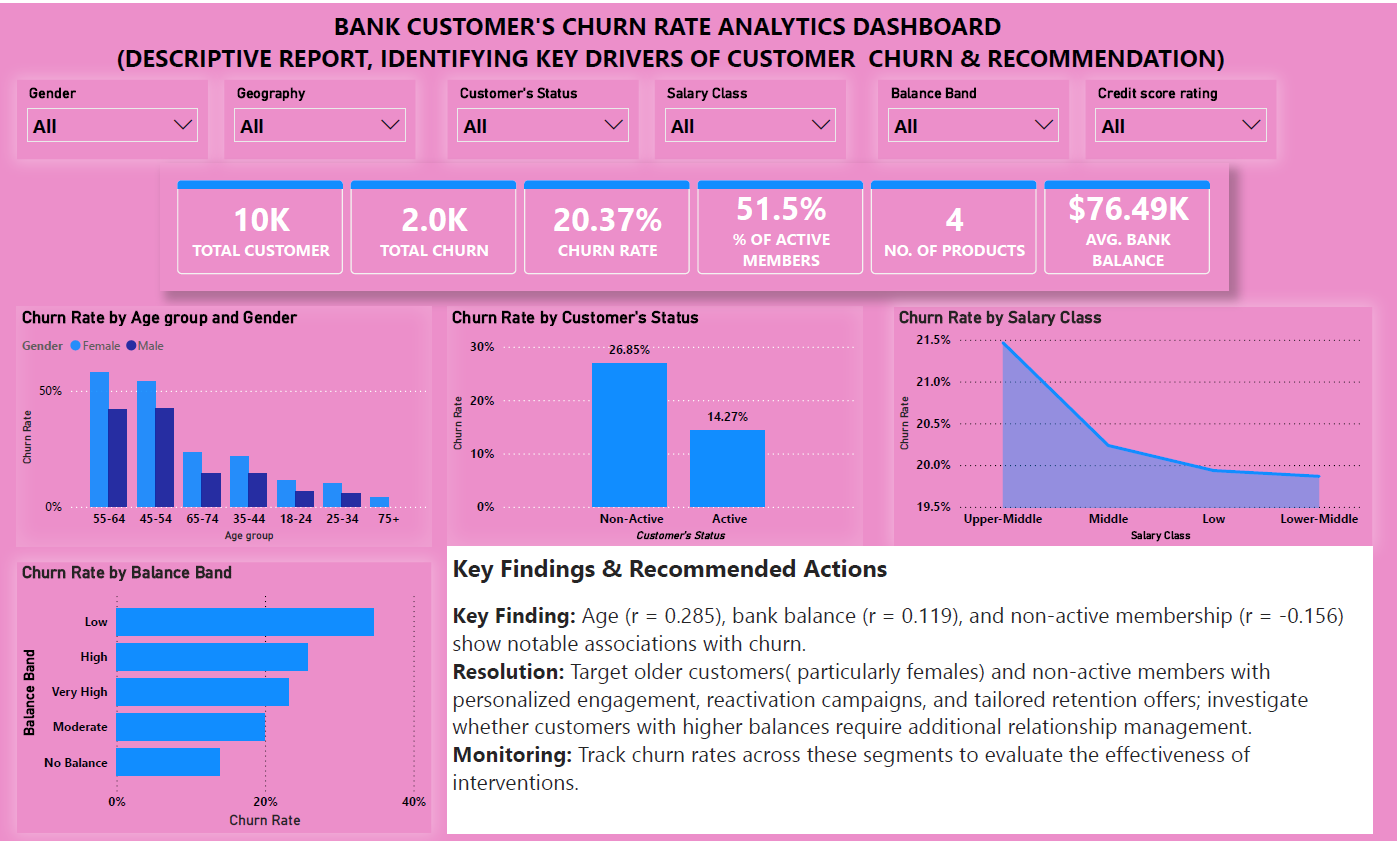

What the dashboard file says about the page in this screenshot:
{"tool":"powerbi","page":{"name":"Page 1","canvas":[1400,840],"ordinal":0},"visuals":[{"type":"cardVisual","fields":{"Data":["Age_group_Dim.total customer","Age_group_Dim.Total Churn","Age_group_Dim.Churn Rate","Age_group_Dim.%_of_Active_Members","Count(Fact_Table_Churn.Num_Of_Products)","Age_group_Dim.AVG. BANK BALANCE"]},"box":[160,160,1072,128],"z":0},{"type":"textbox","box":[32,0,1280,80],"z":1000},{"type":"slicer","fields":{"Values":["Gender_dim.Gender"]},"box":[16,75.6,192,80],"z":2000},{"type":"slicer","fields":{"Values":["Geo_dimension.Geography"]},"box":[224,75.6,192,80],"z":3000},{"type":"slicer","fields":{"Values":["Membership_status_Dim.Is_Active_Member"]},"box":[448,75.6,192,80],"z":4000},{"type":"slicer","fields":{"Values":["Salary_Class_Dim.Salary Class"]},"box":[656,75.6,192,80],"z":5000},{"type":"slicer","fields":{"Values":["Balance_Band_Dim.Balance Band"]},"box":[880,75.6,192,80],"z":6000},{"type":"slicer","fields":{"Values":["Credit_rating_DIM.Credit score rating"]},"box":[1088,75.6,192,80],"z":7000},{"type":"clusteredColumnChart","fields":{"Category":["Age_group_Dim.Age group"],"Y":["Age_group_Dim.Churn Rate"],"Series":["Gender_dim.Gender"]},"box":[16,304,416,240],"z":8000},{"type":"clusteredColumnChart","fields":{"Category":["Membership_status_Dim.Is_Active_Member"],"Y":["Age_group_Dim.Churn Rate"]},"box":[448,304,416,240],"z":9000},{"type":"areaChart","fields":{"Category":["Salary_Class_Dim.Salary Class"],"Y":["Age_group_Dim.Churn Rate"]},"box":[896,304,480,240],"z":10000},{"type":"clusteredBarChart","fields":{"Y":["Age_group_Dim.Churn Rate"],"Category":["Balance_Band_Dim.Balance Band"]},"box":[16,560,416,272],"z":11000},{"type":"textbox","box":[448,544,928,288],"z":12000}]}

Visuals, with their boxes in screenshot pixels (x1, y1, x2, y2), scaled from the page's 1400x840 canvas onto the 1399x841 screenshot:
cardVisual - Age_group_Dim.total customer x Age_group_Dim.Total Churn: crop(160, 160, 1231, 288)
textbox: crop(32, 0, 1311, 80)
slicer - Gender_dim.Gender: crop(16, 76, 208, 156)
slicer - Geo_dimension.Geography: crop(224, 76, 416, 156)
slicer - Membership_status_Dim.Is_Active_Member: crop(448, 76, 640, 156)
slicer - Salary_Class_Dim.Salary Class: crop(656, 76, 847, 156)
slicer - Balance_Band_Dim.Balance Band: crop(879, 76, 1071, 156)
slicer - Credit_rating_DIM.Credit score rating: crop(1087, 76, 1279, 156)
clusteredColumnChart - Age_group_Dim.Age group x Age_group_Dim.Churn Rate: crop(16, 304, 432, 545)
clusteredColumnChart - Membership_status_Dim.Is_Active_Member x Age_group_Dim.Churn Rate: crop(448, 304, 863, 545)
areaChart - Salary_Class_Dim.Salary Class x Age_group_Dim.Churn Rate: crop(895, 304, 1375, 545)
clusteredBarChart - Age_group_Dim.Churn Rate x Balance_Band_Dim.Balance Band: crop(16, 561, 432, 833)
textbox: crop(448, 545, 1375, 833)
